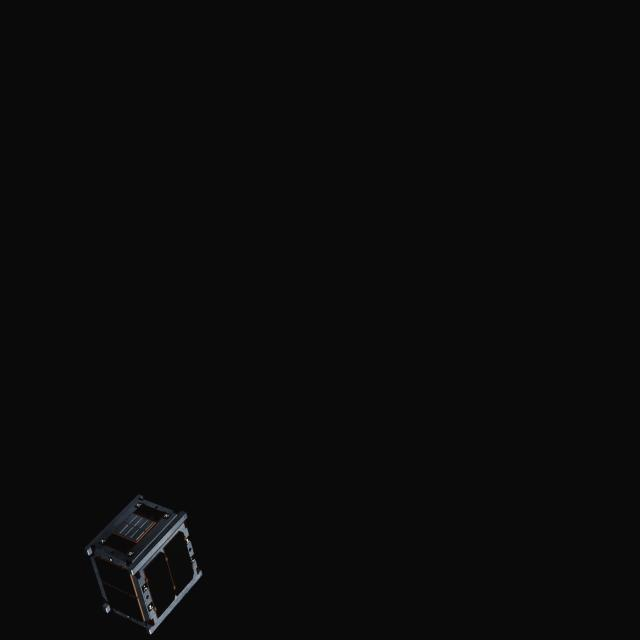satellite: (84, 492, 205, 634)
